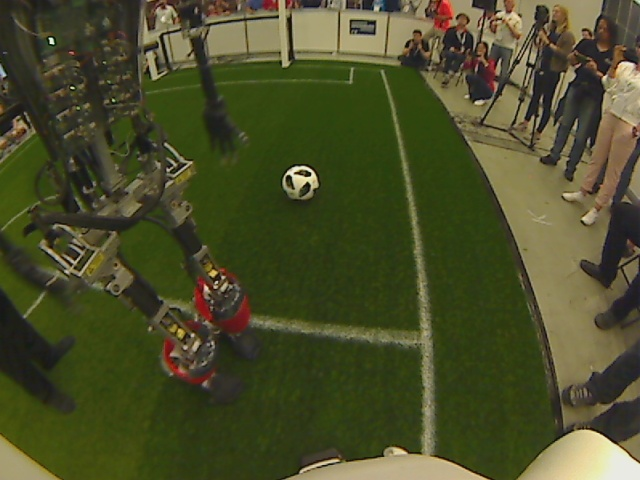ball: (279, 164, 321, 204)
goalpost: (139, 1, 290, 79)
robot: (1, 1, 262, 412)
